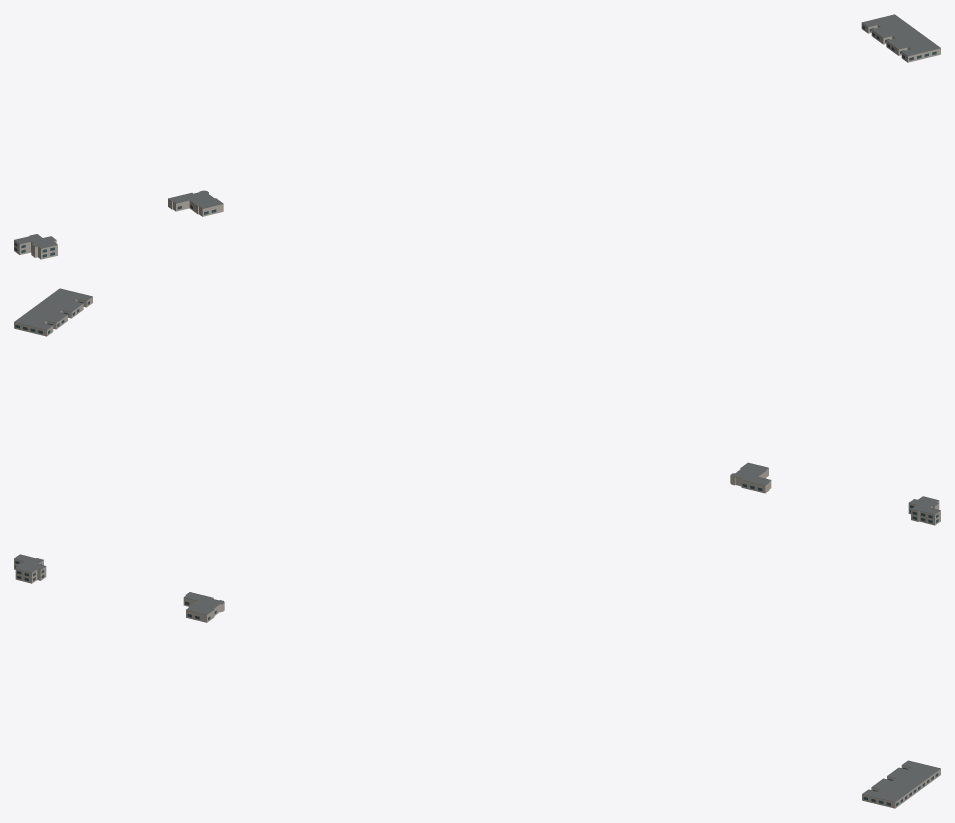
3 views of the same model, one above another, from view 1: azimuth 30°, elevation 25°; view 2: azimuth 150°, elevation 25°; view 3: azimuth 330°, elevation 25° (orthographic).
Visible parts, largest first — view 1: Buildings (3, 10) Roof membrane, Buildings (3, 10) Masonry brick; view 2: Buildings (3, 10) Roof membrane, Buildings (3, 10) Masonry brick; view 3: Buildings (3, 10) Roof membrane, Buildings (3, 10) Masonry brick.
Boxes of the visible parts, left/top/right/bottom form: Buildings (3, 10) Roof membrane: left=14, top=14, right=940, bottom=248; Buildings (3, 10) Masonry brick: left=14, top=23, right=940, bottom=259; Buildings (3, 10) Roof membrane: left=14, top=288, right=940, bottom=514; Buildings (3, 10) Masonry brick: left=14, top=297, right=940, bottom=525; Buildings (3, 10) Roof membrane: left=14, top=554, right=940, bottom=801; Buildings (3, 10) Masonry brick: left=14, top=559, right=940, bottom=808.
Bounding box in the file's own units: 589 × 10.86 × 52.2.
